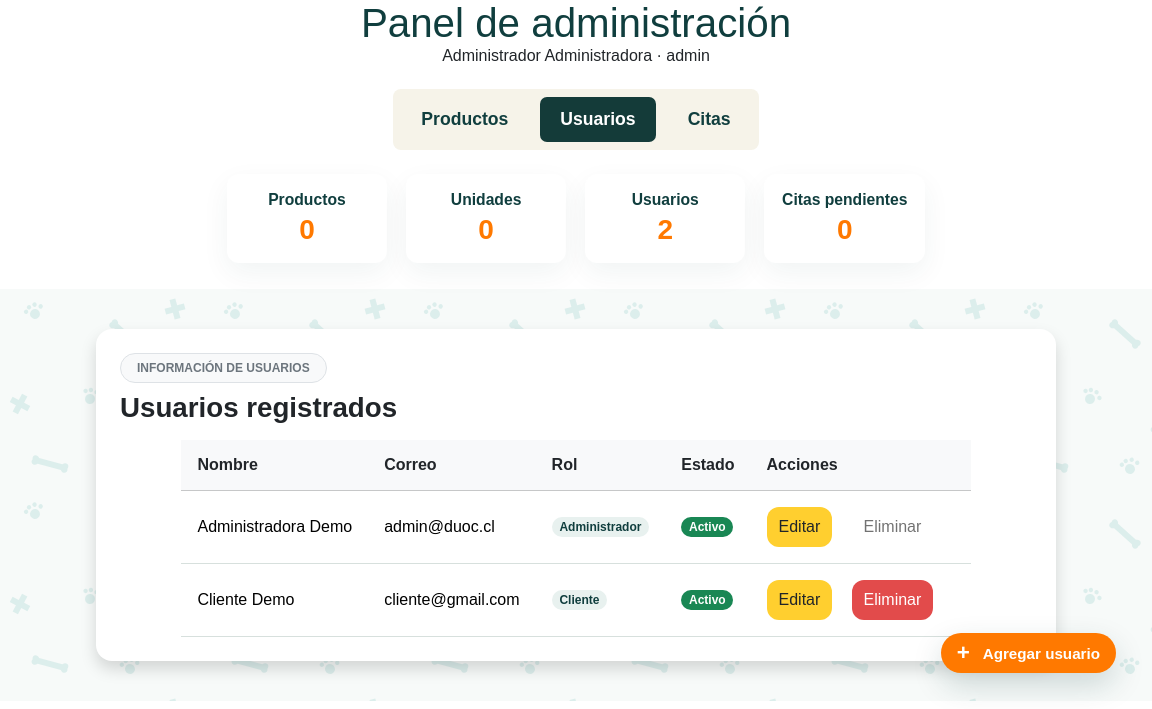
Scenario: rechaza crear un usuario con un correo ya registrado
The image size is (1152, 709).
Click the button "+ Agregar usuario" at (1028, 653), box [941,633,1116,673]
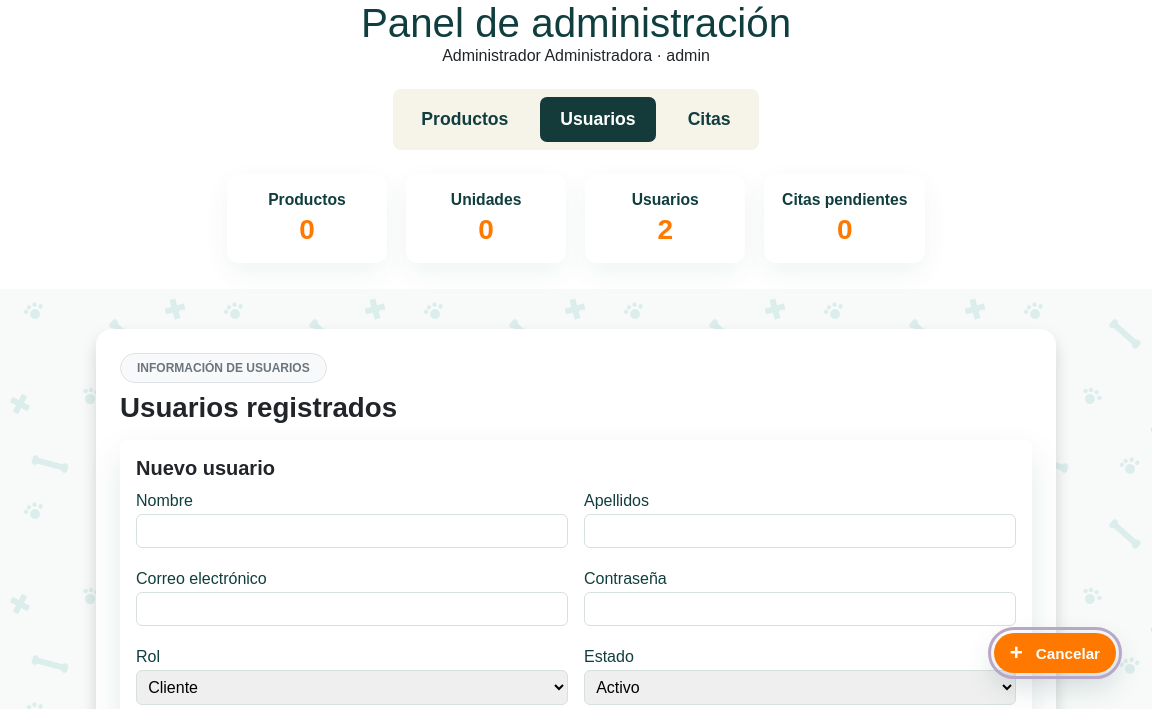
Type "Otro" into the field labelled "Nombre" at (352, 531), box [136,514,568,548]
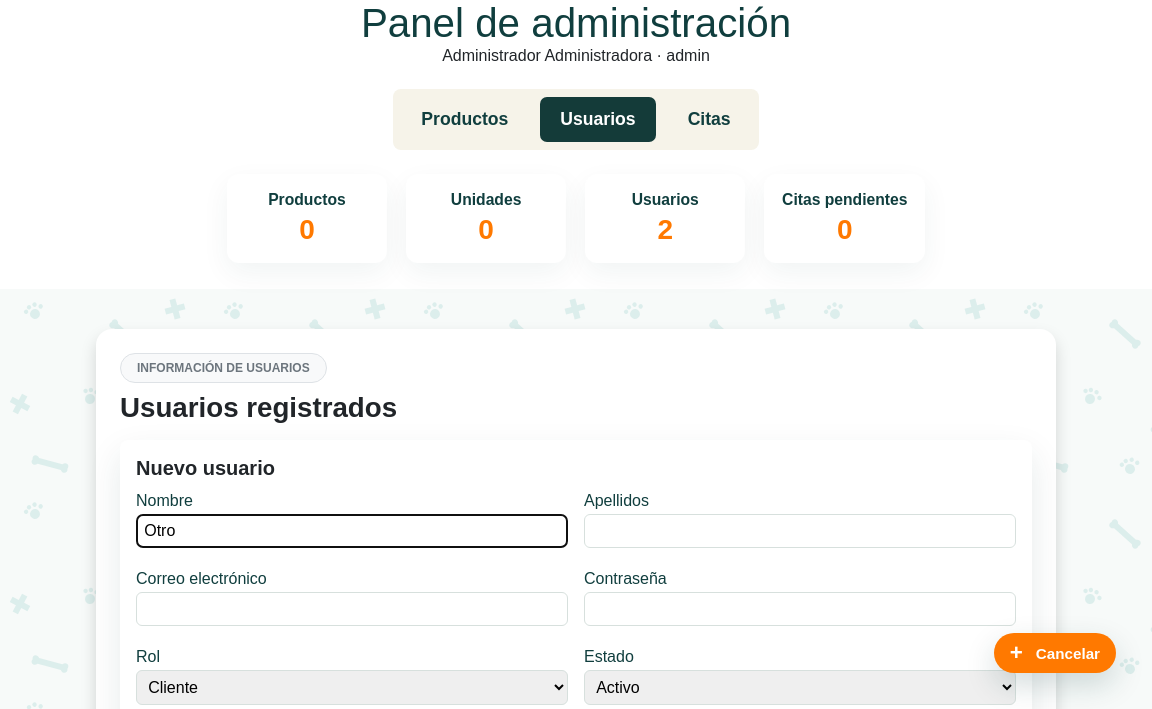
Type "Cliente" into the field labelled "Apellidos" at (800, 531), box [584,514,1016,548]
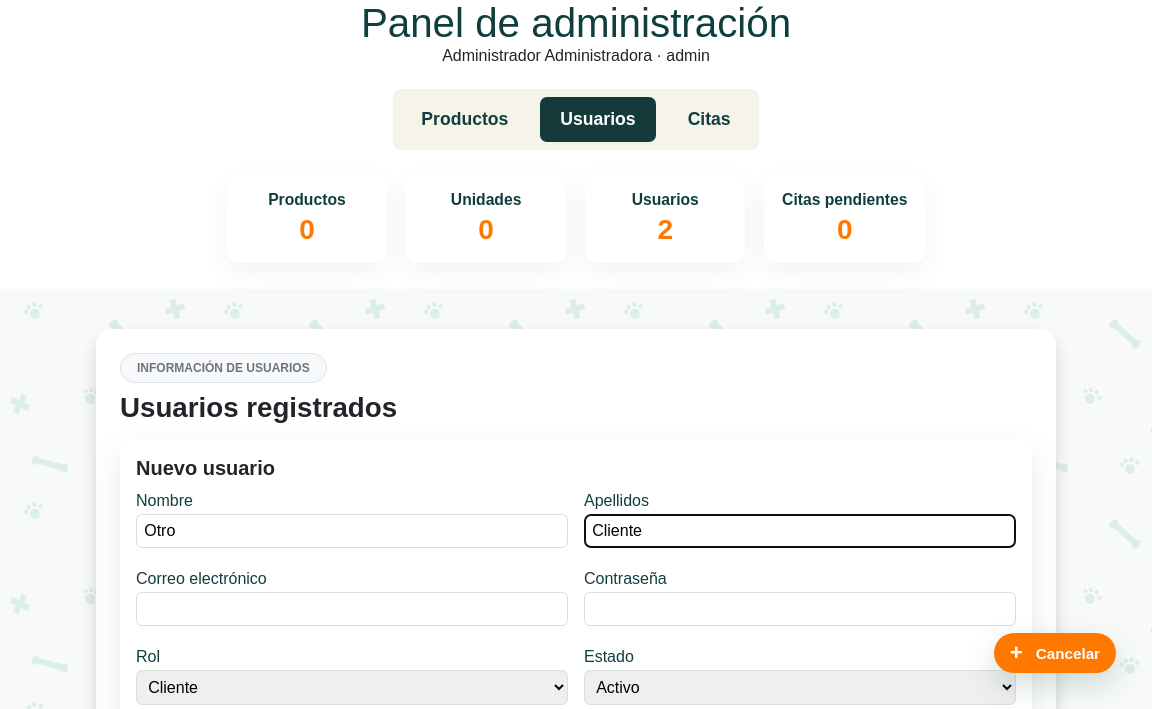
Type "cliente@gmail.com" into the field labelled "Correo electrónico" at (352, 609), box [136,592,568,626]
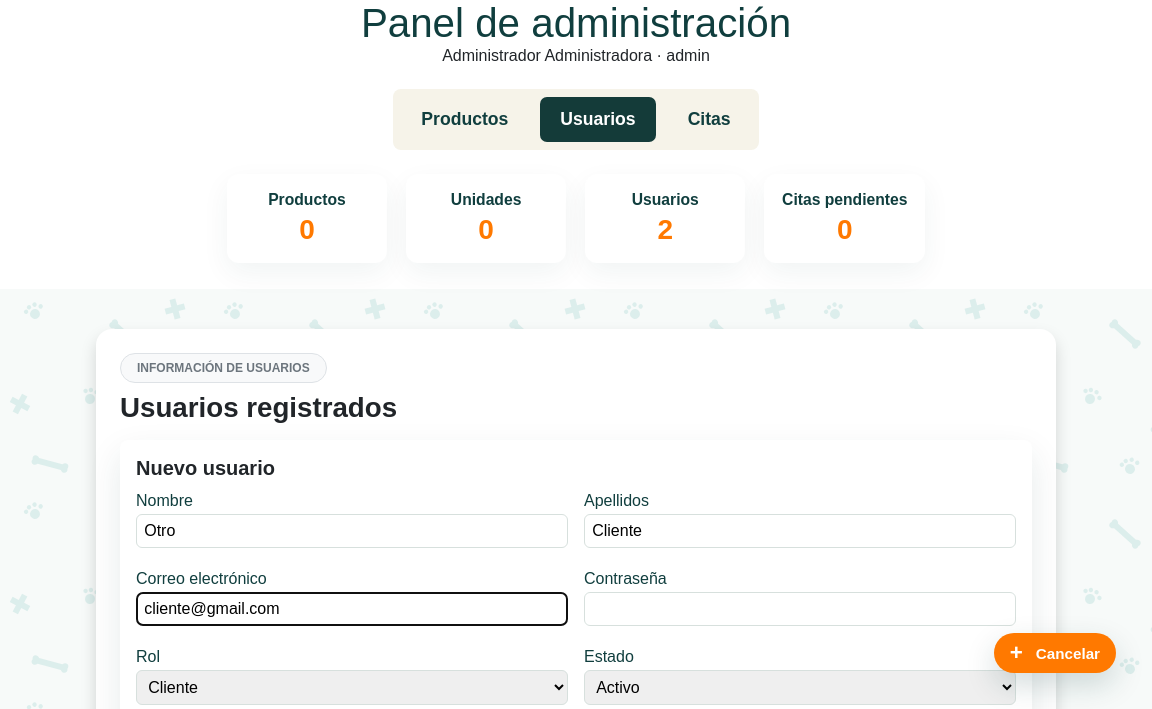
Type "clave12345" into the password field labelled "Contraseña" at (800, 609), box [584,592,1016,626]
(page scrolled)
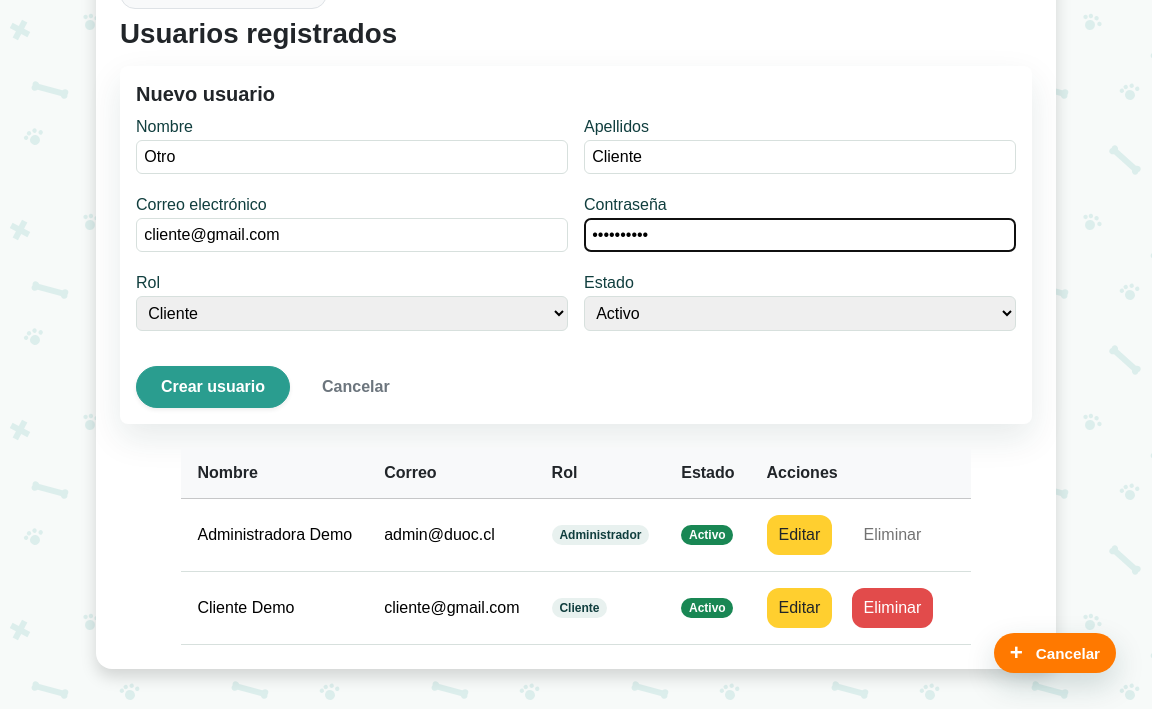
Click the button "Crear usuario" at (213, 387), box [136,366,290,408]
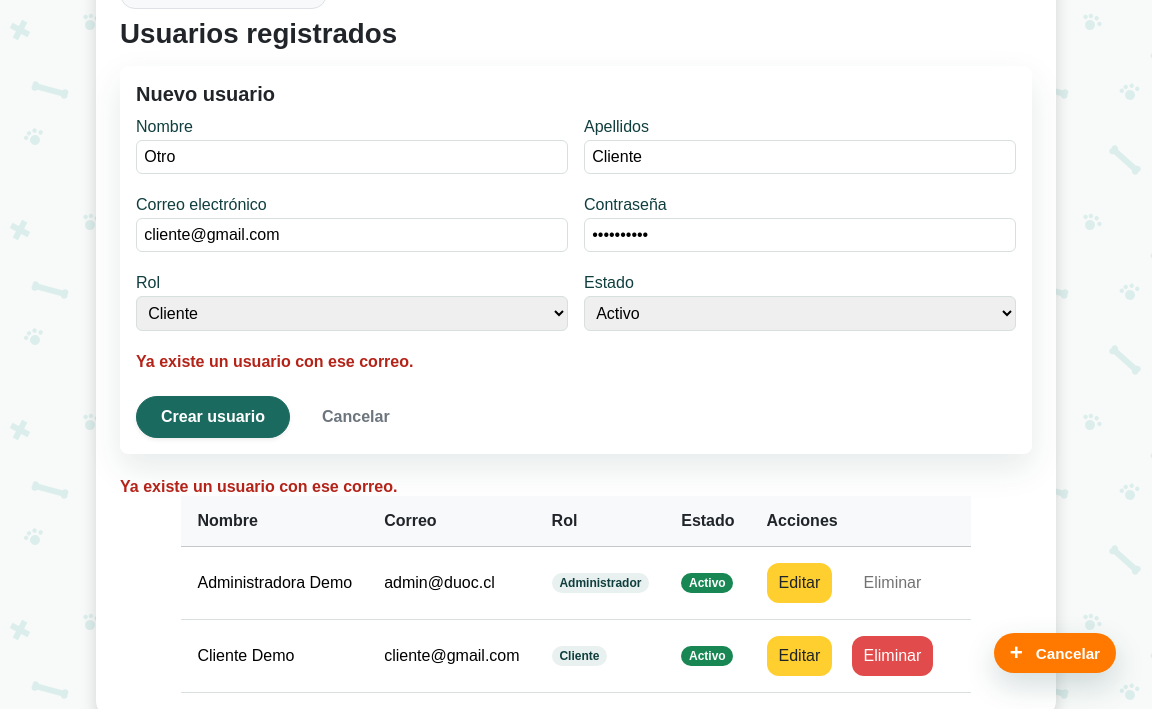
Expected: the text "Ya existe un usuario con ese correo." is shown 2 times, [136,353,414,370]; [120,478,398,495]
